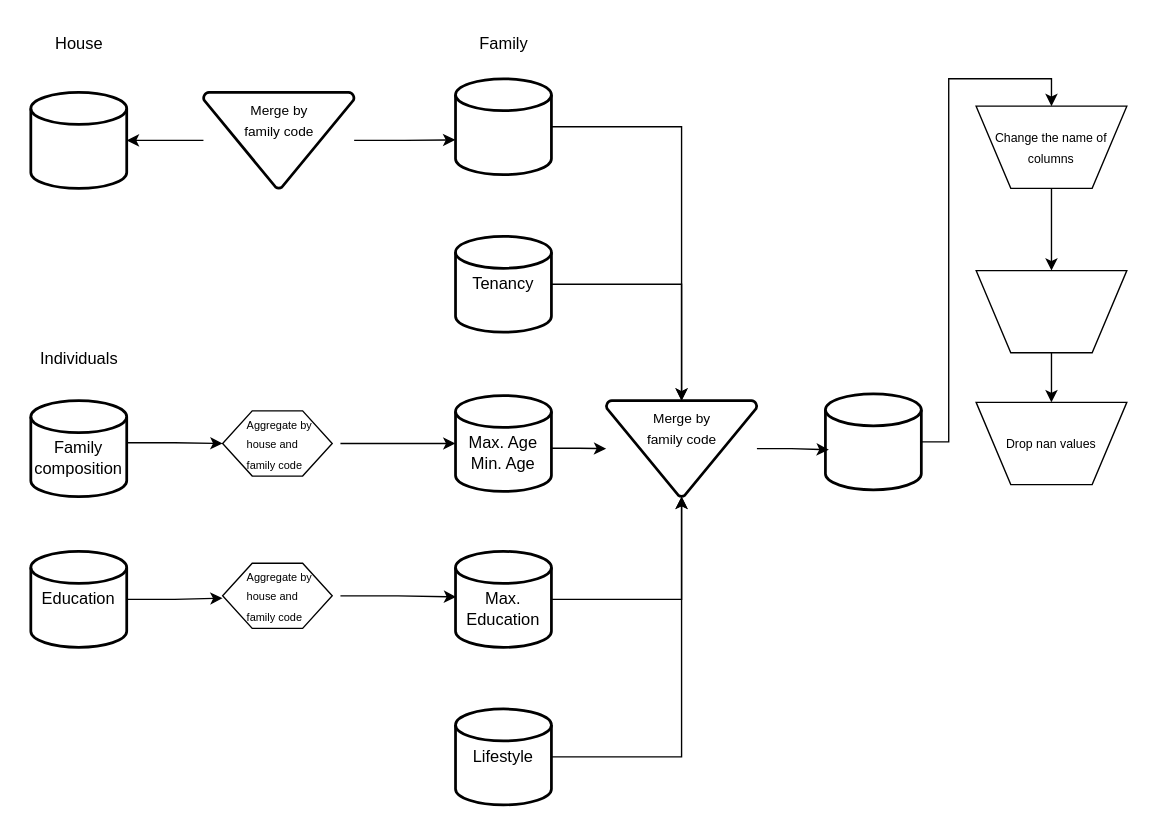
Some shapes in this 1151 by 829 pixel diagram are drawn without their labels. The centre of each missing label's shape, as x and y in pixels:
"Filter by homes with electricity or gas connections" belongs at pixel 1051 311.
"House Urban/rural" belongs at pixel 78 139.
"Main Database" belongs at pixel 872 441.
"Services" belongs at pixel 502 126.
